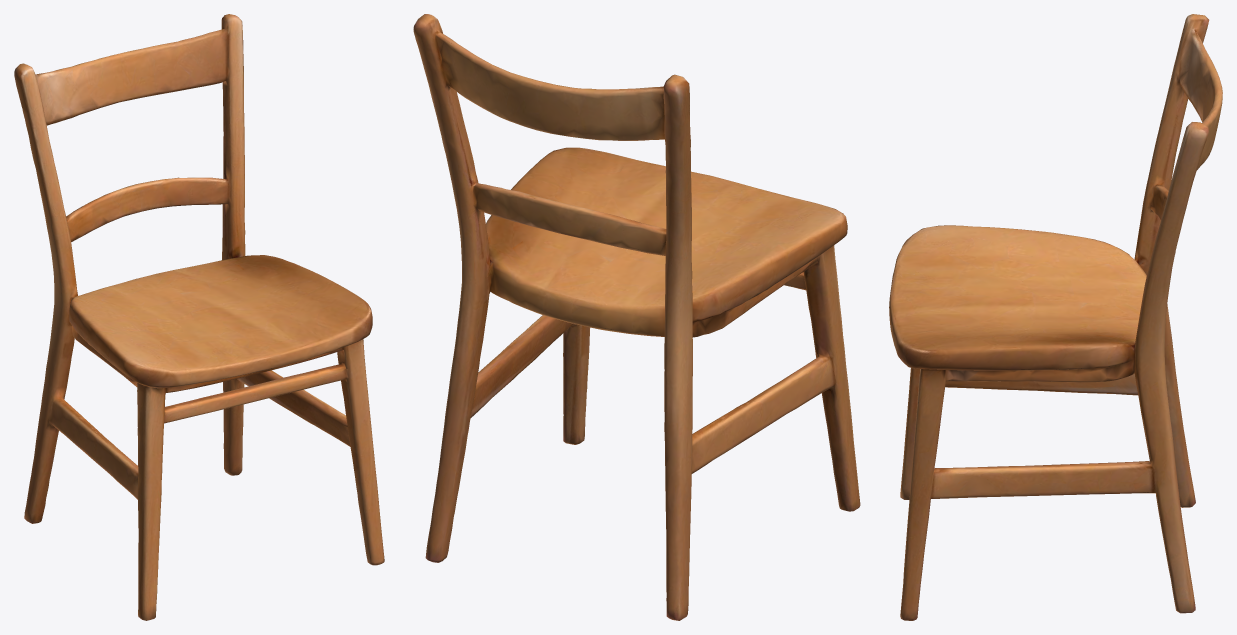
File: chair.glb
3 renders of one model, left to right at view 1: azimuth 30°, elevation 25°; view 2: azimuth 150°, elevation 25°; view 3: azimuth 270°, elevation 25°, orthographic. The views are drawn at different scales.
Parts seen in each view (by area): view 1: model; view 2: model; view 3: model.
Boxes of the visible parts, bbox=[...] form: model: bbox=[14, 14, 384, 620]; model: bbox=[413, 14, 860, 620]; model: bbox=[889, 14, 1222, 620].
Size of the model in its own units: 1.12 by 2 by 1.23.
Materials: 1 (1 with a texture image).
